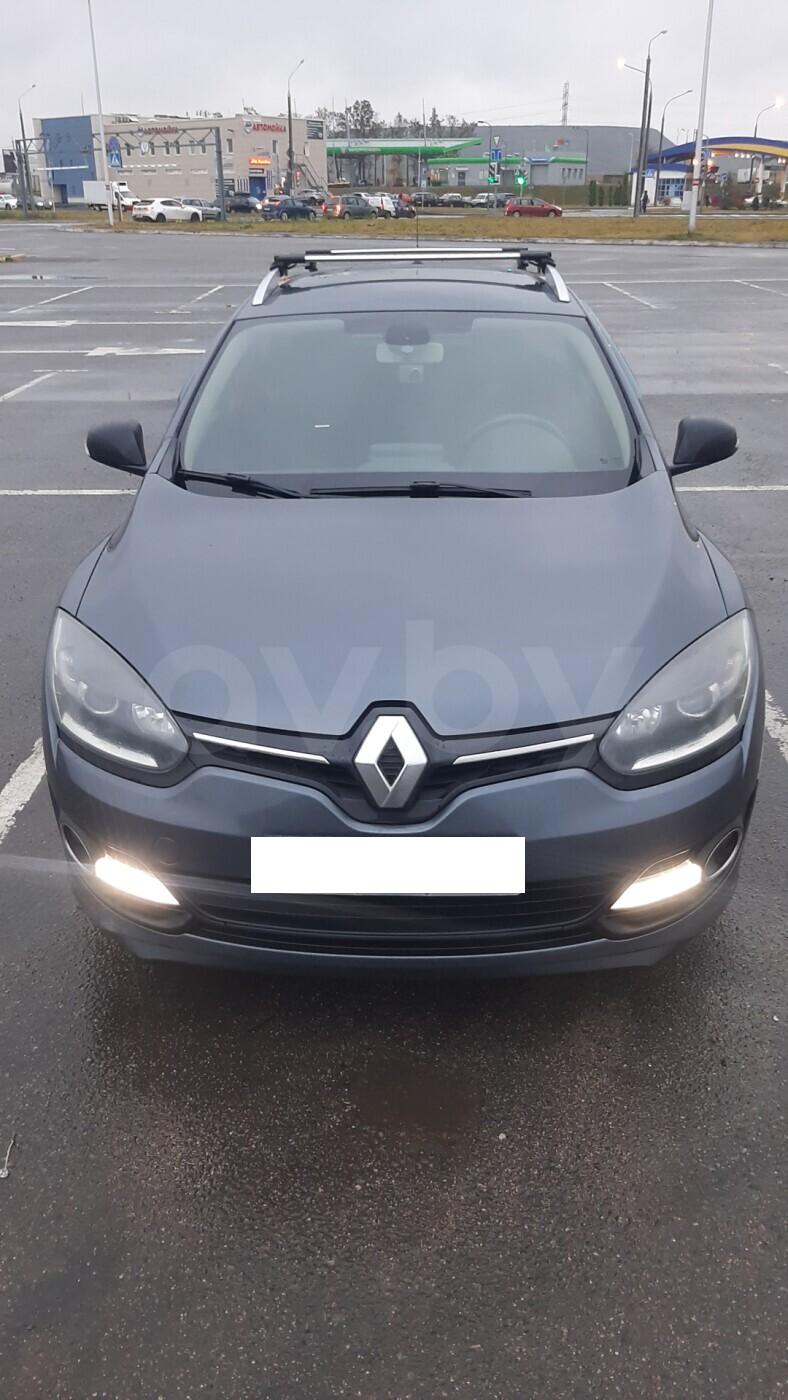Megane_2014-2016: (44, 252, 758, 986)
